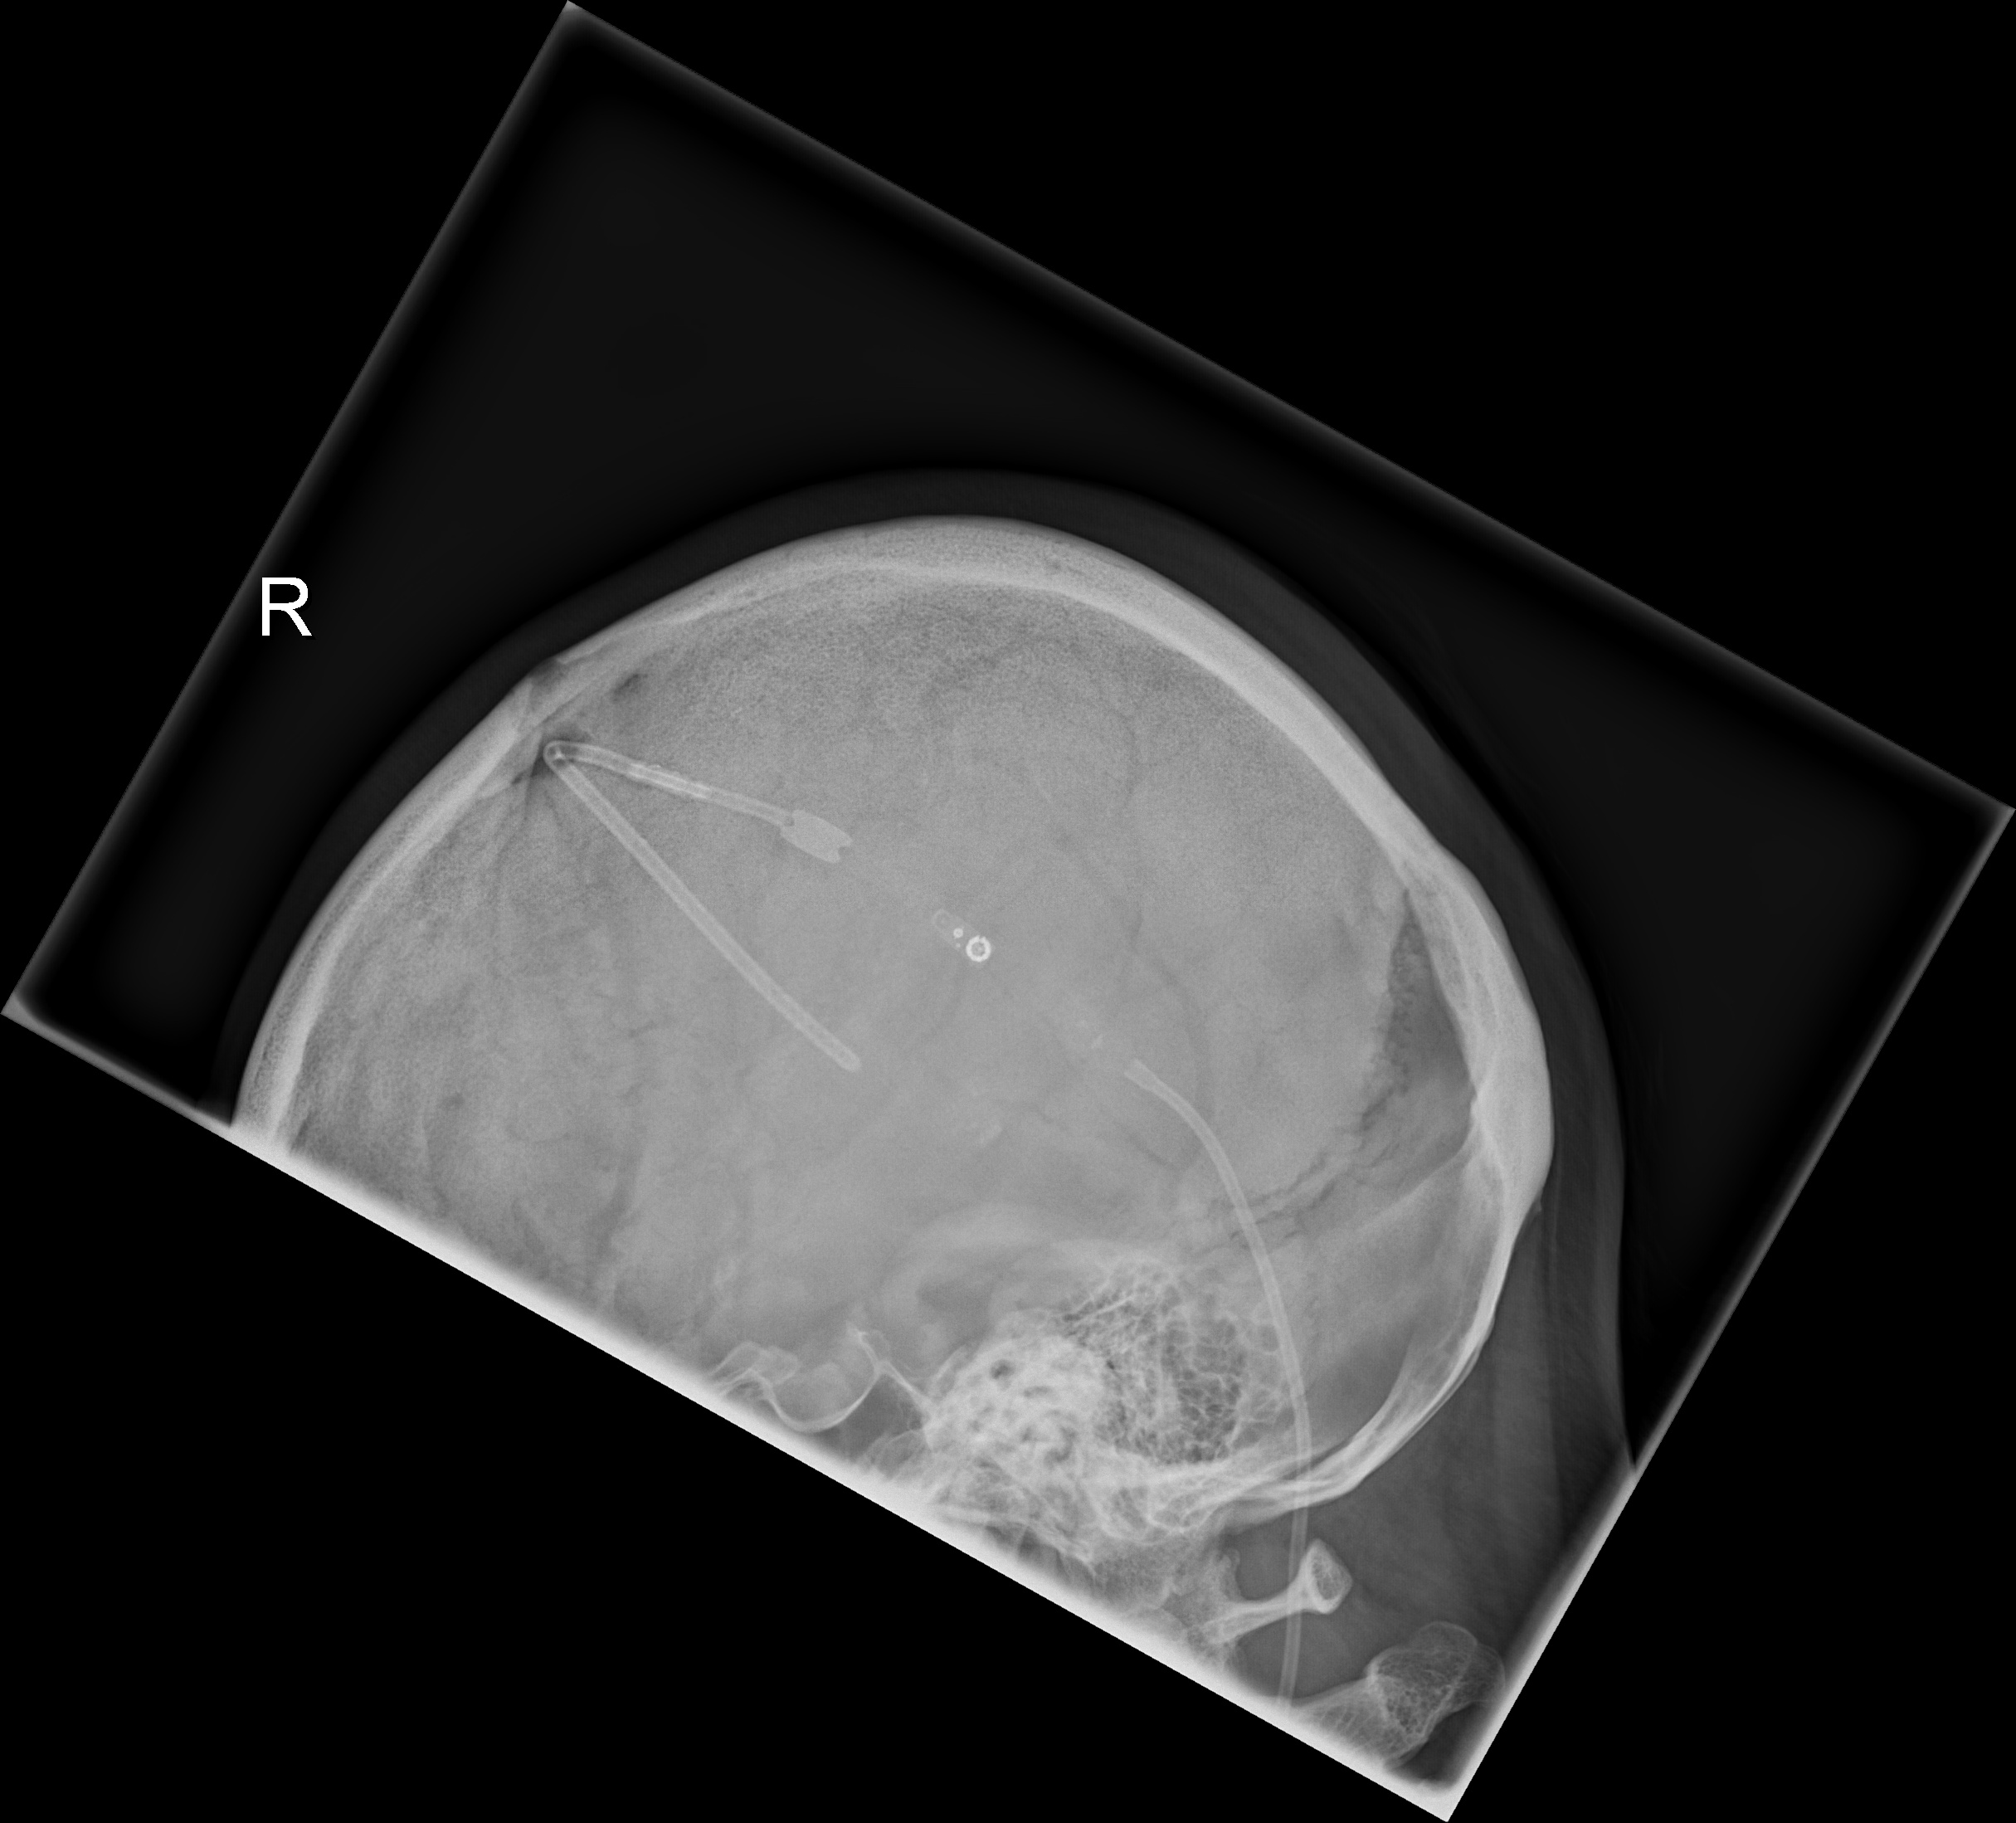Codman Hakim: (934, 910, 1004, 984)
